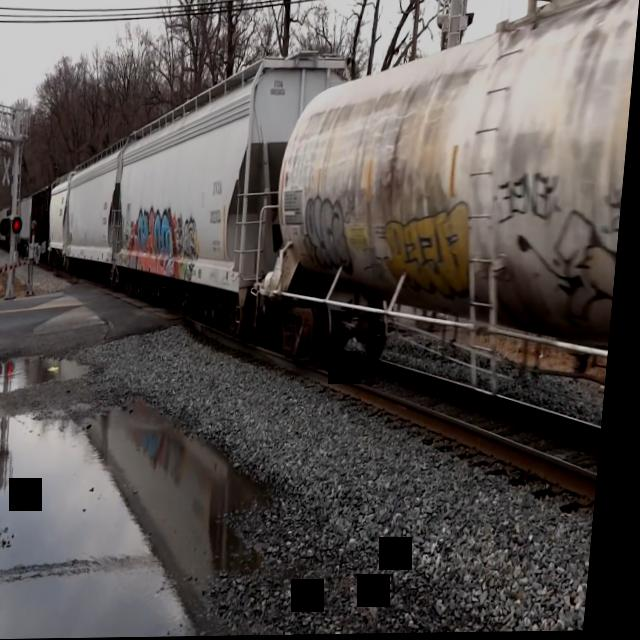hopper: (110, 43, 355, 347), (56, 139, 130, 292)
tank: (262, 0, 640, 393)
